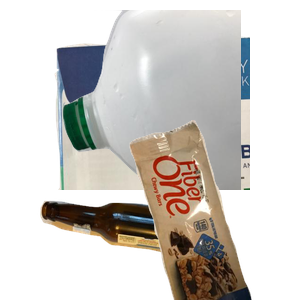glass: (37, 198, 236, 300)
paper: (52, 34, 292, 214)
plastic: (60, 10, 300, 190)
trash: (127, 120, 300, 300)
